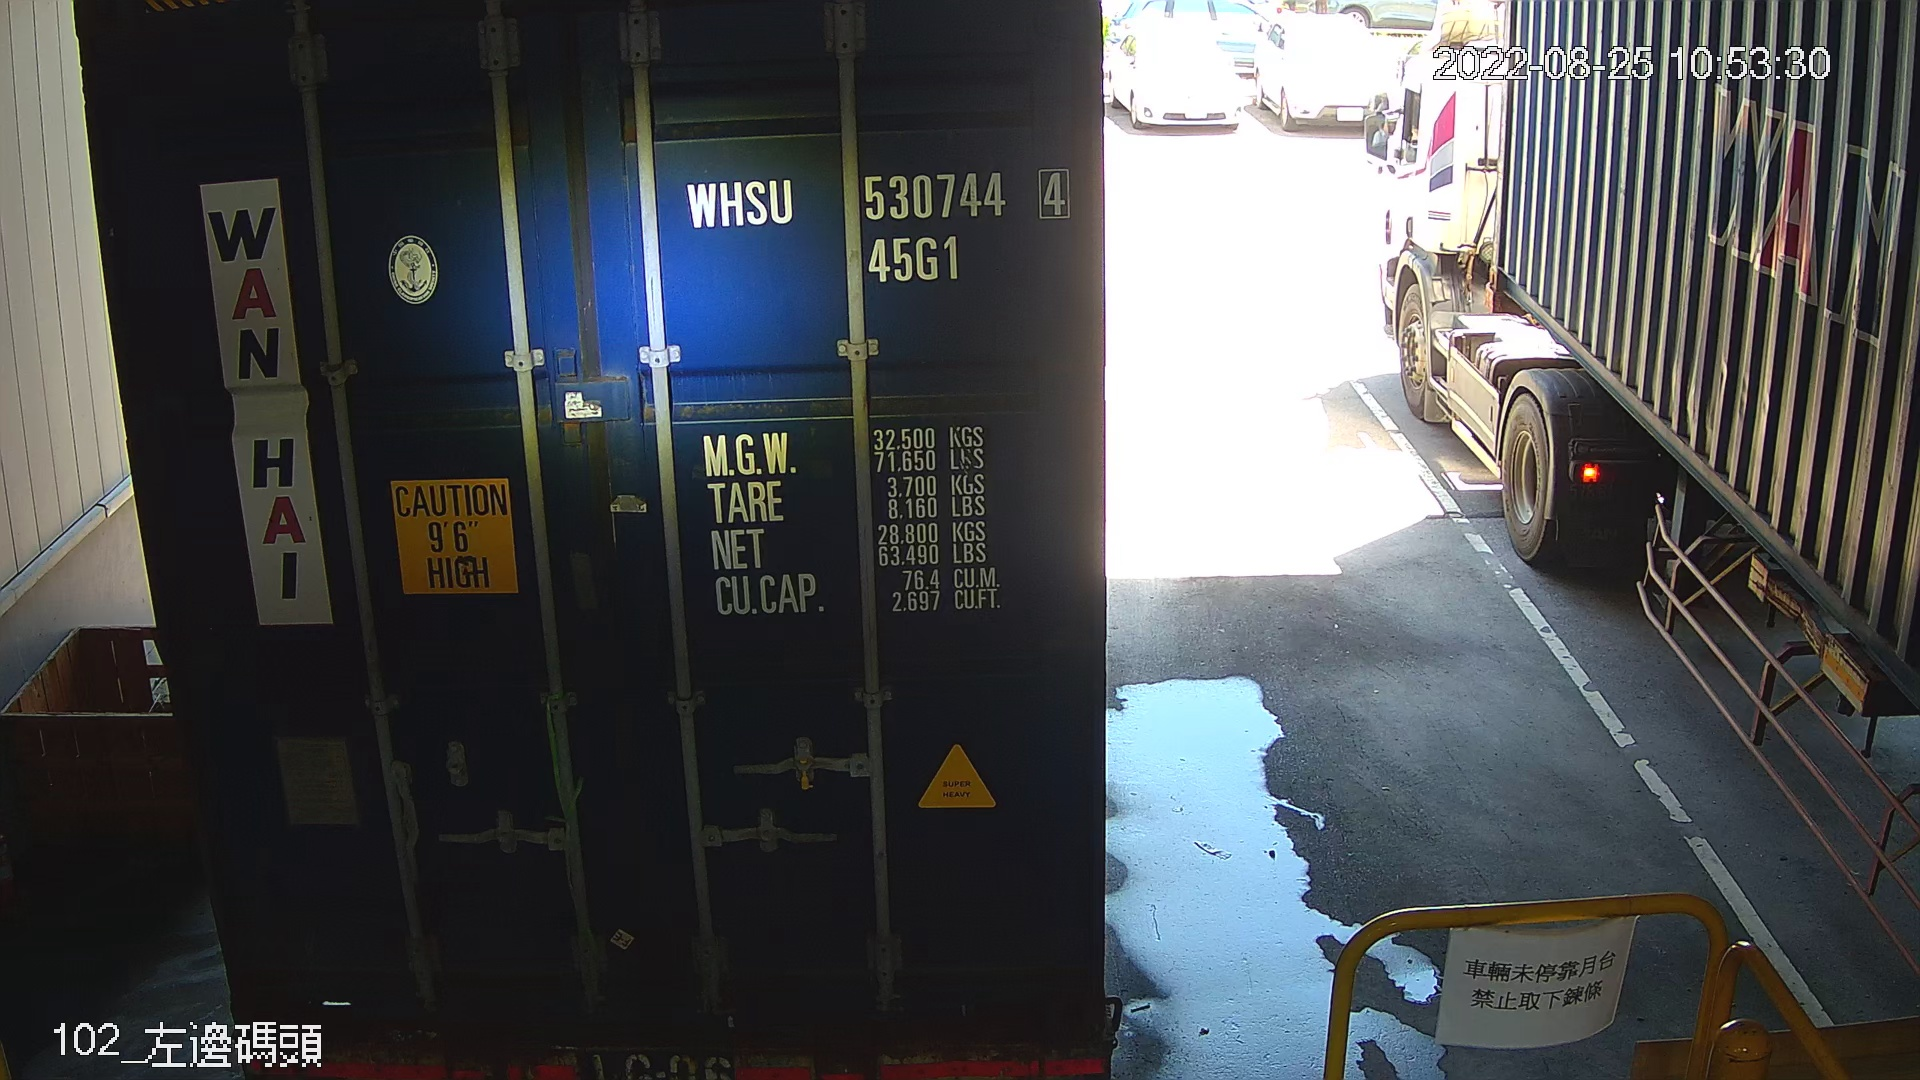container: (678, 157, 1083, 297)
